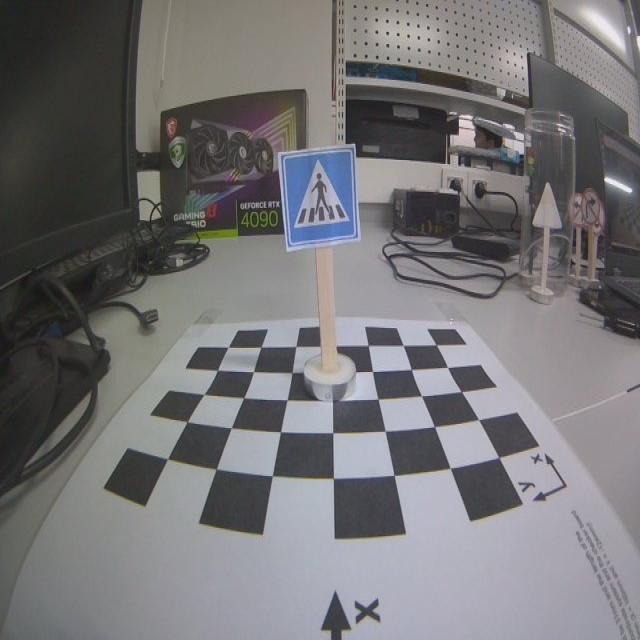Rambu Penyebrangan: (276, 142, 359, 250)
